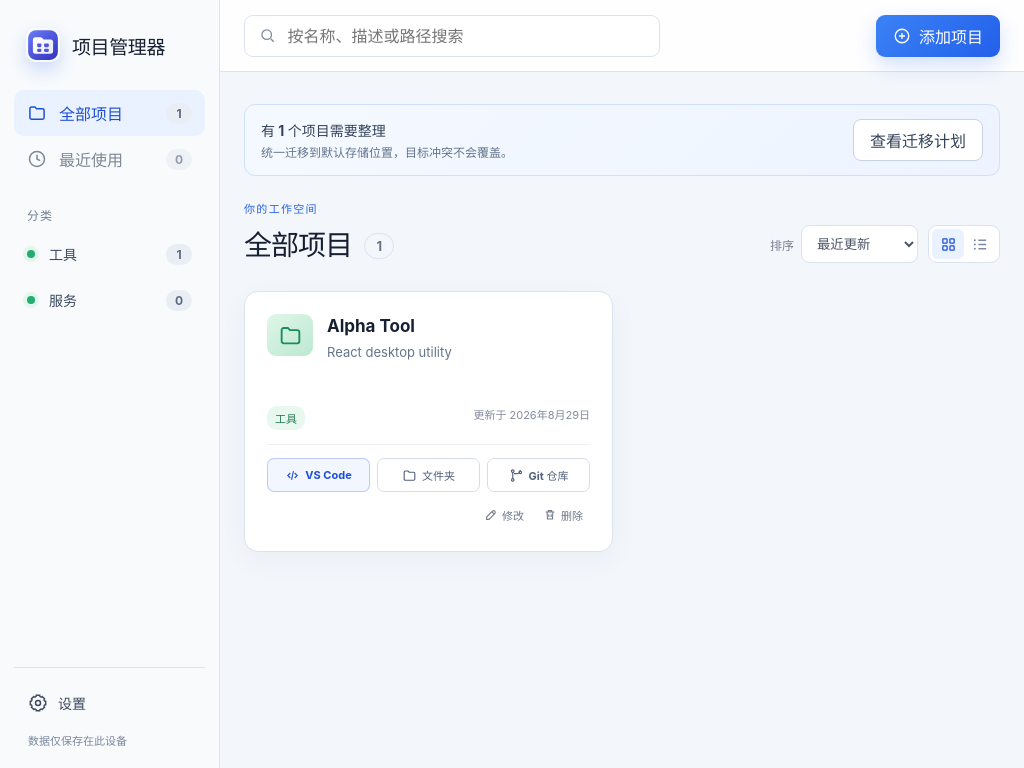
Test: App import flow › shows the migration plan and executes the confirmed move
Expected: the text "有 1 个项目需要整理" is shown, [261,122,386,139]
What coordinates should you click on to do the following:
click the button "查看迁移计划"
I would click on:
 (918, 140)
Its box is [853,119,983,161].
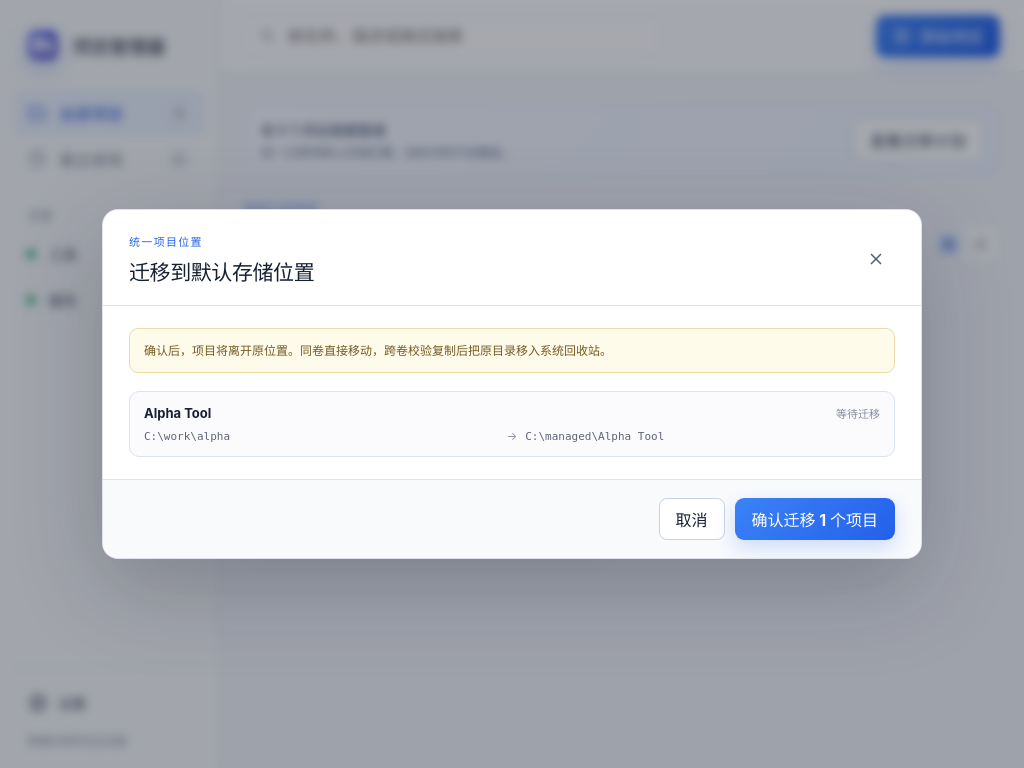
Expected: the text "C:\\work\\alpha" is shown, [144,430,230,443]
Expected: the text "C:\\managed\\Alpha Tool" is shown, [525,430,664,443]
What coordinates should you click on to do the following:
click the button "确认迁移 1 个项目"
I would click on:
 (815, 519)
Its box is [734,498,895,540].
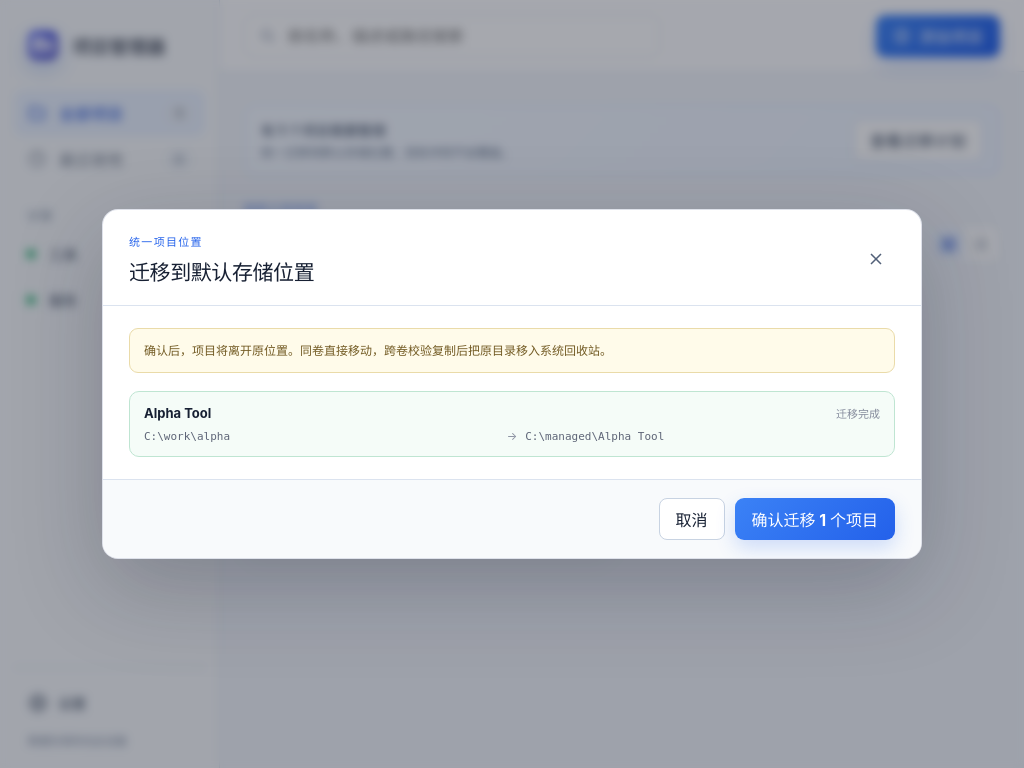
Expected: the text "迁移完成" is shown, [836,405,880,421]
